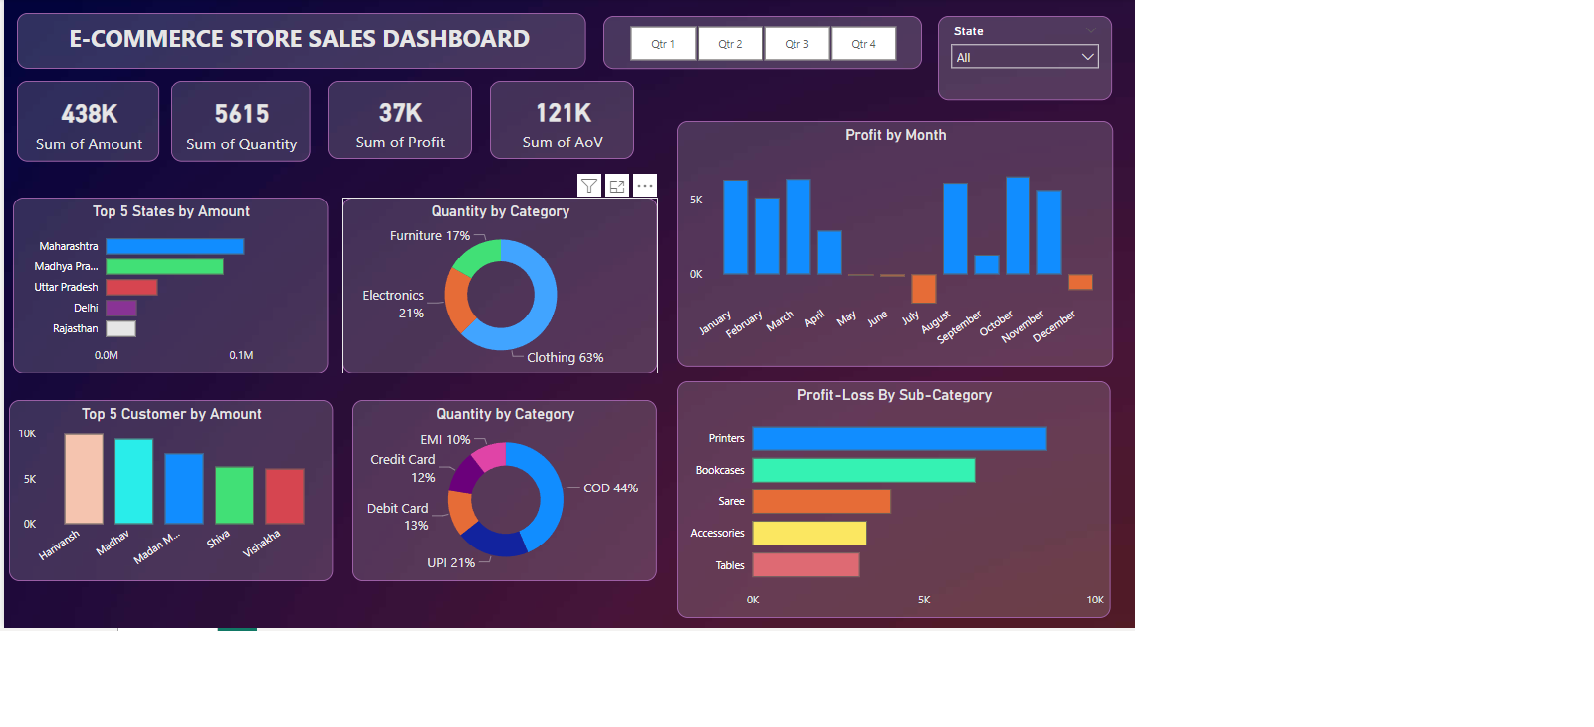

What the dashboard file says about the page in this screenshot:
{"tool":"powerbi","page":{"name":"Dashboard","canvas":[1280,720],"ordinal":0},"visuals":[{"type":"textbox","box":[14.3,15.7,642.9,64.3],"z":0},{"type":"columnChart","title":"Profit by Month","fields":{"Y":["Details.Profit"],"Category":["Orders.Order Date.Variation.Date Hierarchy.Month"]},"box":[760,140,492.9,281.4],"z":1000},{"type":"clusteredBarChart","title":"Profit-Loss By Sub-Category","fields":{"Category":["Details.Sub-Category"],"Y":["Details.Profit"]},"box":[760,437.1,490,271.4],"z":2000},{"type":"donutChart","title":"Quantity by Category","fields":{"Y":["Details.Quantity"],"Category":["Details.Category"]},"box":[382.9,227.1,355.7,201.4],"z":2001},{"type":"donutChart","title":"Quantity by Category","fields":{"Y":["Details.Quantity"],"Category":["Details.PaymentMode"]},"box":[394.3,458.6,344.3,207.1],"z":2002},{"type":"card","fields":{"Values":["Details.Amount"]},"box":[14.3,92.9,161.4,92.9],"z":2003},{"type":"card","fields":{"Values":["Details.Quantity"]},"box":[188.6,92.9,157.1,92.9],"z":2004},{"type":"card","fields":{"Values":["Details.Profit"]},"box":[365.7,92.9,162.9,90],"z":2005},{"type":"card","fields":{"Values":["Details.AoV"]},"box":[548.6,92.9,162.9,90],"z":2006},{"type":"clusteredBarChart","title":"Top 5 States by Amount","fields":{"Category":["Orders.State"],"Y":["Details.Amount"]},"box":[10,227.1,355.7,201.4],"z":2007},{"type":"columnChart","title":"Top 5 Customer by Amount","fields":{"Category":["Orders.CustomerName"],"Y":["Details.Amount"]},"box":[5.7,458.6,365.7,207.1],"z":2008},{"type":"slicer","fields":{"Values":["Orders.Order Date.Variation.Date Hierarchy.Quarter"]},"box":[677.1,18.6,360,61.4],"z":2009},{"type":"slicer","fields":{"Values":["Orders.State"]},"box":[1055.7,18.6,197.1,97.1],"z":2010}]}

Visuals, with their boxes on the page's 1280x720 design canvas (x1, y1, x2, y2). These are canvas units, not pixel positions in the 1594x727 screenshot, which may show the page scaled, cropped or inside an application window:
textbox: [14, 16, 657, 80]
"Profit by Month" columnChart: [760, 140, 1253, 421]
"Profit-Loss By Sub-Category" clusteredBarChart: [760, 437, 1250, 708]
"Quantity by Category" donutChart: [383, 227, 739, 428]
"Quantity by Category" donutChart: [394, 459, 739, 666]
card - Details.Amount: [14, 93, 176, 186]
card - Details.Quantity: [189, 93, 346, 186]
card - Details.Profit: [366, 93, 529, 183]
card - Details.AoV: [549, 93, 712, 183]
"Top 5 States by Amount" clusteredBarChart: [10, 227, 366, 428]
"Top 5 Customer by Amount" columnChart: [6, 459, 371, 666]
slicer - Orders.Order Date.Variation.Date Hierarchy.Quarter: [677, 19, 1037, 80]
slicer - Orders.State: [1056, 19, 1253, 116]
